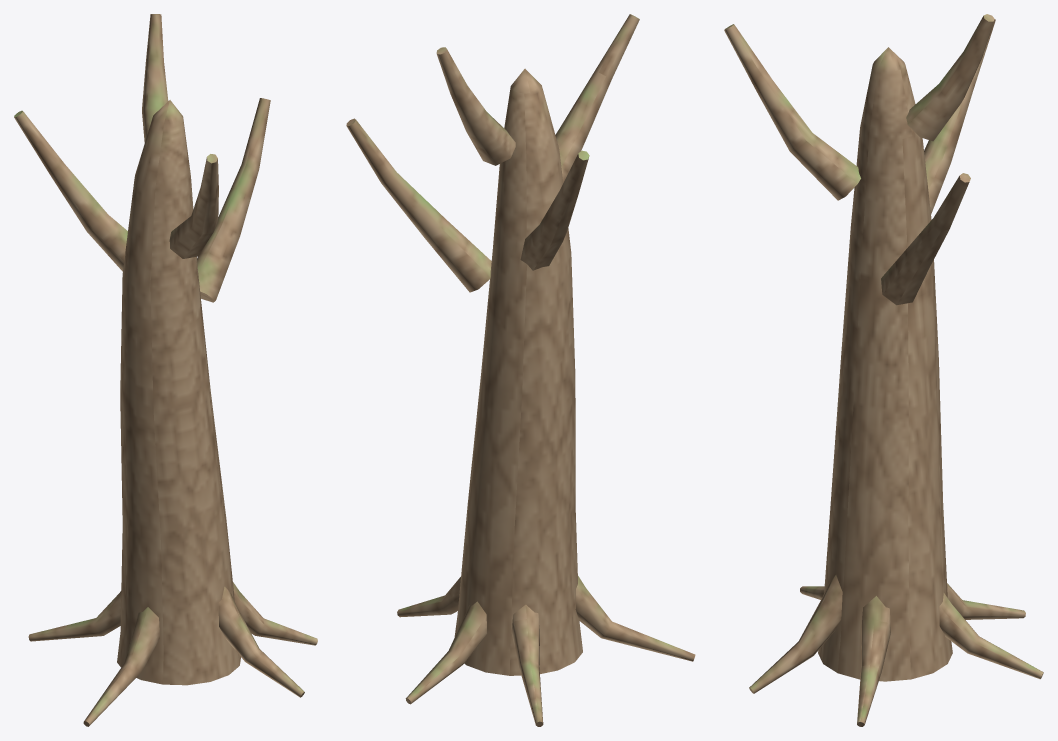
The model's file is oak_trunk.gltf.
3 views of the same model, side by side, from view 1: azimuth 30°, elevation 25°; view 2: azimuth 150°, elevation 25°; view 3: azimuth 270°, elevation 25° (orthographic). The views are drawn at different scales.
Visible parts, largest first — view 1: oak_trunk; view 2: oak_trunk; view 3: oak_trunk.
Part boxes in pixels (<box>): oak_trunk: <box>14,14,317,726</box>; oak_trunk: <box>346,14,695,726</box>; oak_trunk: <box>724,14,1043,726</box>.
Size of the model in its own units: 3.16 by 7.12 by 3.13.
1 material, 1 textured.
